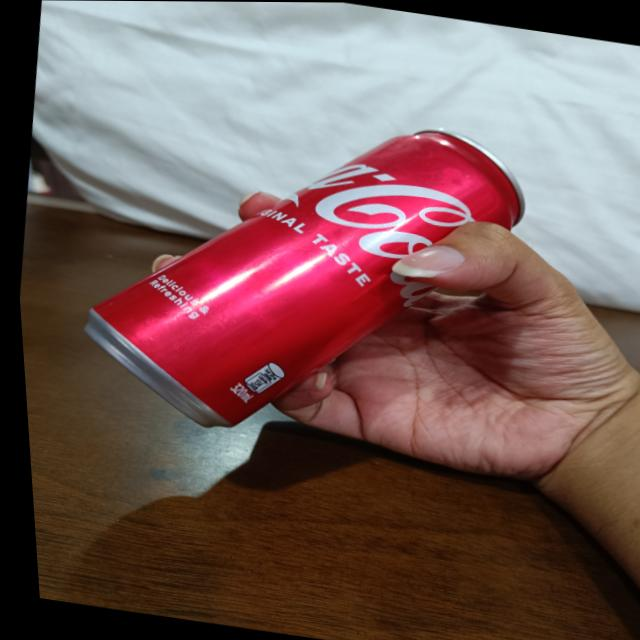coke: (52, 77, 550, 475)
